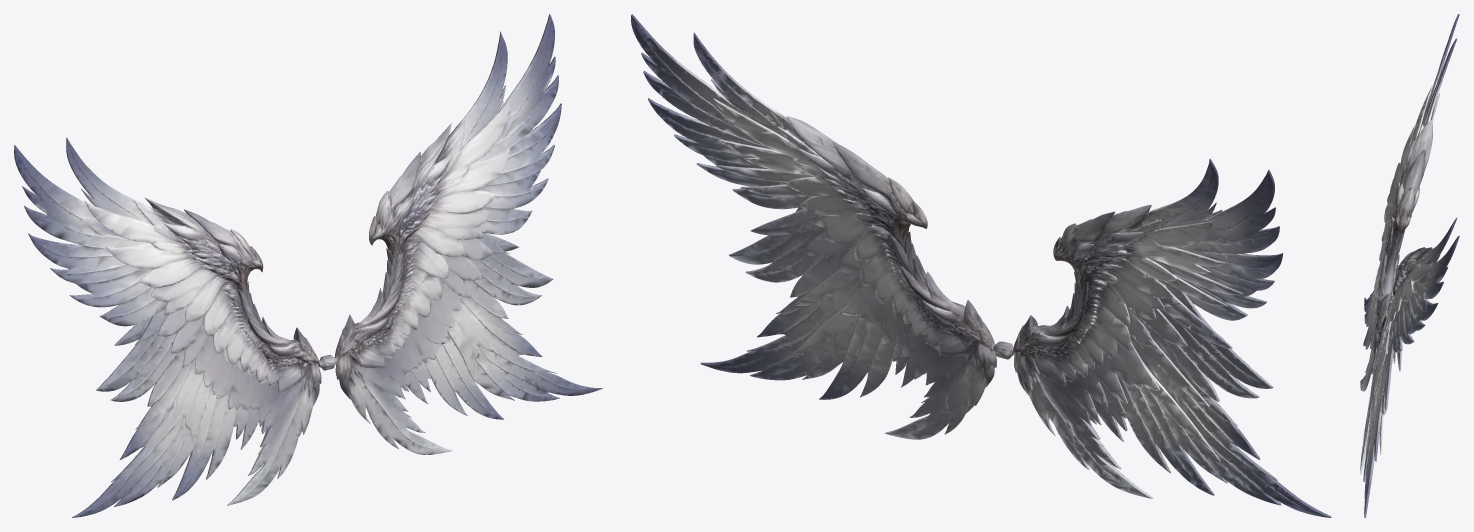
File: Xatori.glb
The picture shows the model from 3 angles, left to right: view 1: azimuth 30°, elevation 25°; view 2: azimuth 150°, elevation 25°; view 3: azimuth 270°, elevation 25°; orthographic projection. The views are drawn at different scales.
Parts seen in each view (by area): view 1: node_0; view 2: node_0; view 3: node_0.
Part boxes in pixels (x1,y1,x2,y2): node_0: (14,14,602,517); node_0: (631,14,1331,517); node_0: (1360,14,1459,517).
Size of the model in its own units: 1.03 by 0.6512 by 0.194.
Materials: 1 (1 with a texture image).
